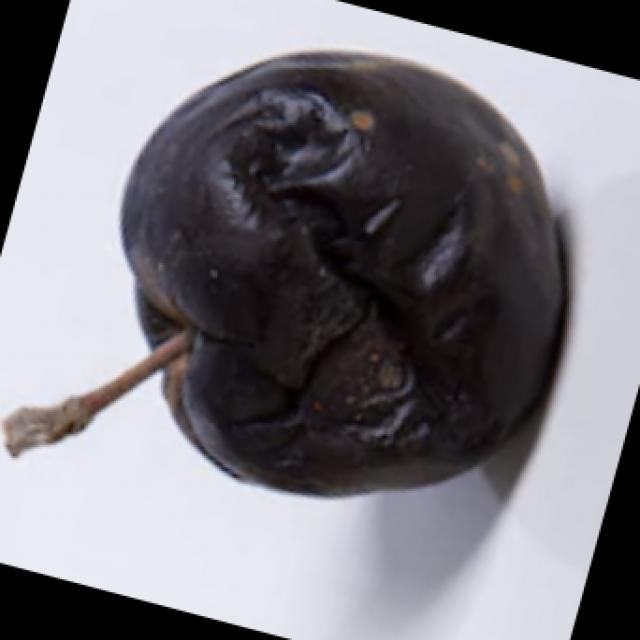Rotten: (125, 55, 577, 490)
